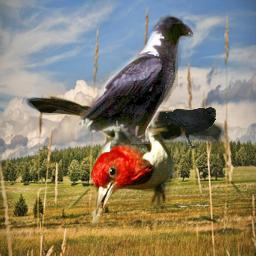Crow: (75, 11, 194, 144), (166, 107, 216, 149)
Woodpecker: (14, 84, 228, 231)
